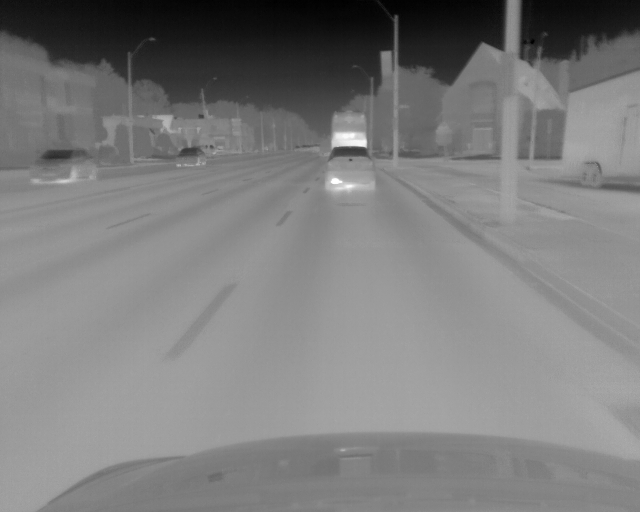car: (324, 146, 377, 195), (30, 149, 100, 186), (331, 111, 368, 152), (173, 148, 205, 170)
